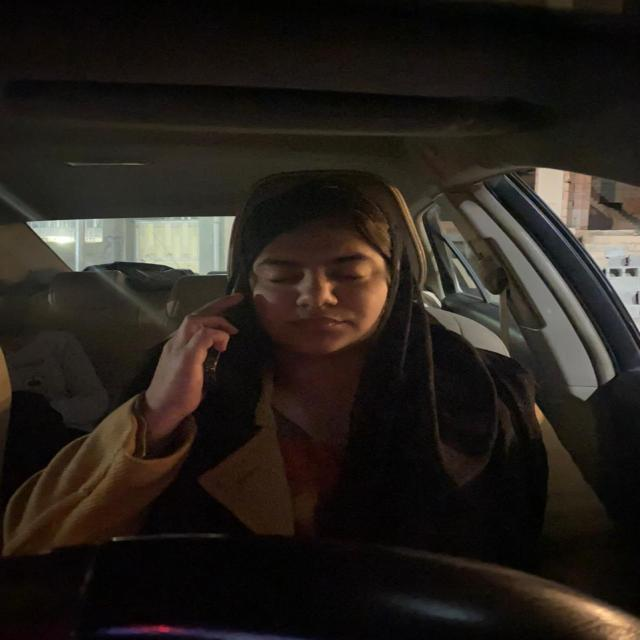mobile: (201, 268, 258, 393)
person: (258, 182, 395, 361)
